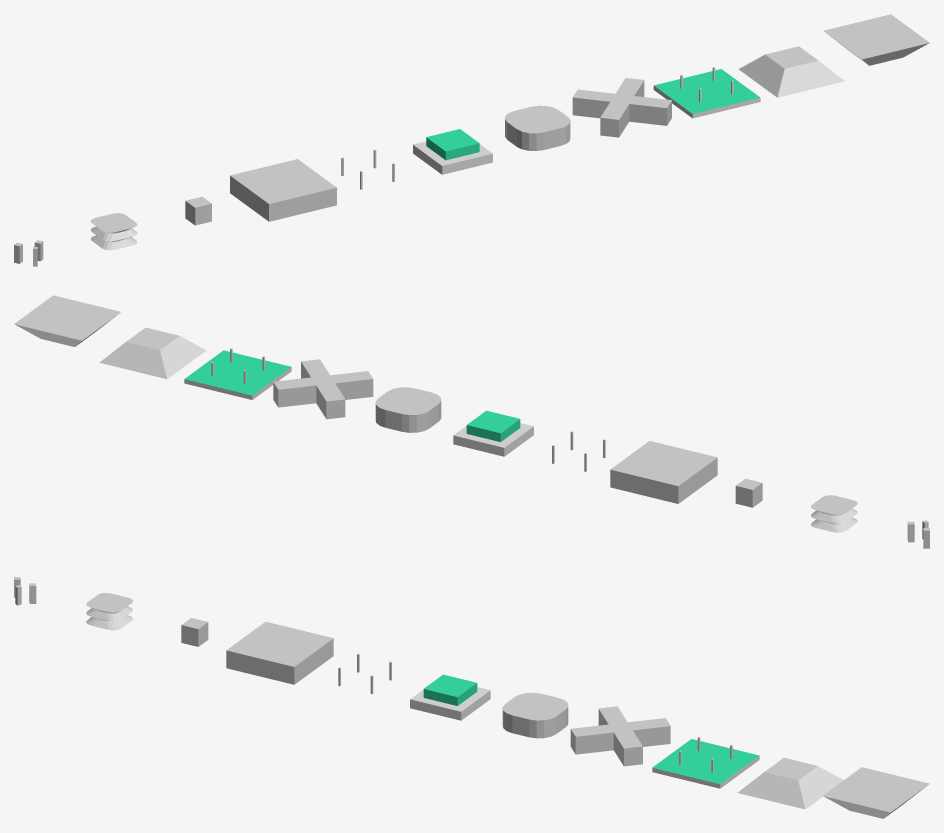
Rendered from blocks.glb.
3 views of the same model, one above another, from view 1: azimuth 30°, elevation 25°; view 2: azimuth 150°, elevation 25°; view 3: azimuth 330°, elevation 25° (orthographic).
Visible parts, largest first — view 1: 01 Basic, 06 Plus, 05 Park, 04 Reverse Taper, 03 Taper, 07 Round, 08 Ribbed, 10 Accordian, 09 Little; view 2: 01 Basic, 06 Plus, 05 Park, 03 Taper, 04 Reverse Taper, 07 Round, 08 Ribbed, 10 Accordian, 09 Little; view 3: 01 Basic, 06 Plus, 05 Park, 04 Reverse Taper, 03 Taper, 07 Round, 08 Ribbed, 10 Accordian, 09 Little.
Part boxes in pixels (x1,y1,x2,y2): 01 Basic: [230, 159, 336, 221]; 06 Plus: [572, 78, 671, 137]; 05 Park: [653, 67, 760, 118]; 04 Reverse Taper: [823, 14, 929, 65]; 03 Taper: [738, 46, 844, 97]; 07 Round: [505, 105, 570, 150]; 08 Ribbed: [413, 129, 492, 174]; 10 Accordian: [90, 213, 137, 250]; 09 Little: [185, 196, 211, 225]; 01 Basic: [610, 441, 717, 503]; 06 Plus: [273, 359, 373, 419]; 05 Park: [184, 348, 291, 399]; 03 Taper: [99, 327, 206, 379]; 04 Reverse Taper: [14, 295, 120, 346]; 07 Round: [375, 387, 441, 432]; 08 Ribbed: [453, 410, 533, 456]; 10 Accordian: [811, 495, 857, 532]; 09 Little: [735, 478, 762, 507]; 01 Basic: [226, 621, 333, 684]; 06 Plus: [570, 706, 670, 766]; 05 Park: [652, 737, 759, 788]; 04 Reverse Taper: [823, 767, 929, 818]; 03 Taper: [737, 757, 843, 809]; 07 Round: [502, 692, 568, 738]; 08 Ribbed: [410, 674, 490, 720]; 10 Accordian: [86, 593, 132, 630]; 09 Little: [181, 618, 208, 646].
Size of the model in its own units: 10.55 by 0.2 by 0.8485.
